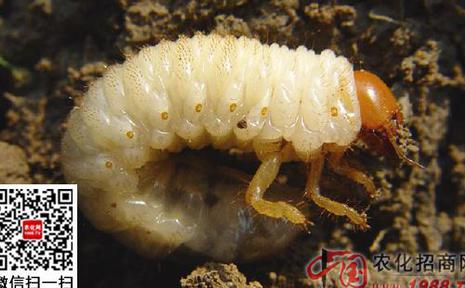grub: (72, 33, 430, 233)
